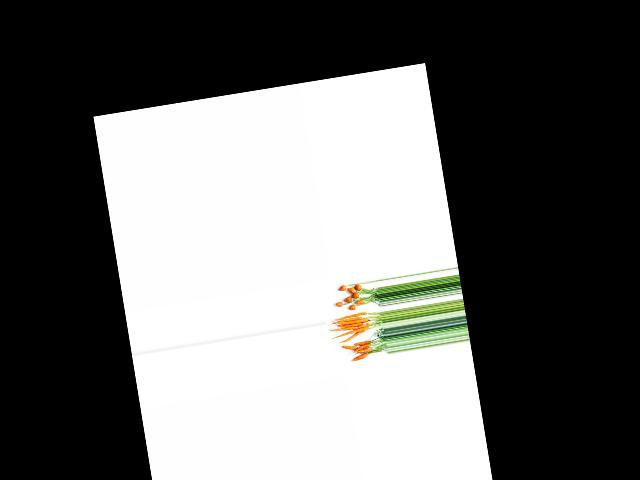carrot: (336, 284, 346, 294)
